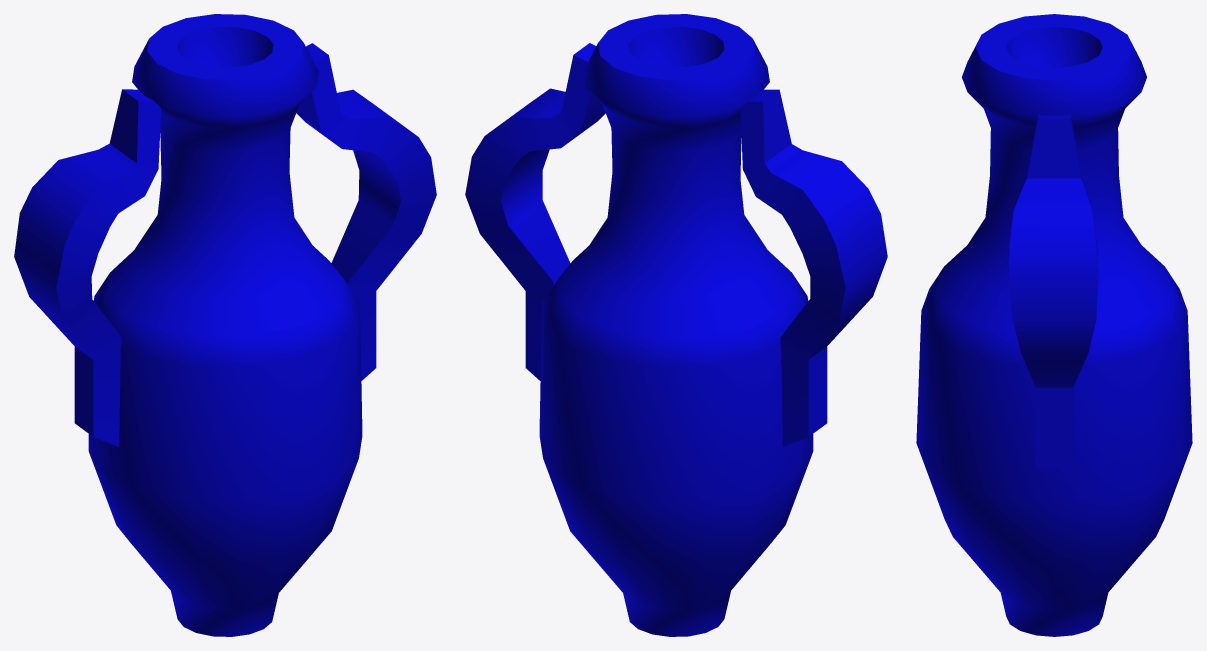
The model's file is SM_Jar_04.fbx.
The picture shows the model from 3 angles, left to right: view 1: azimuth 30°, elevation 25°; view 2: azimuth 150°, elevation 25°; view 3: azimuth 270°, elevation 25°; orthographic projection.
Visible parts, largest first — view 1: Jar_04; view 2: Jar_04; view 3: Jar_04.
Part boxes in pixels (<box>): Jar_04: <box>14,14,436,636</box>; Jar_04: <box>465,14,887,636</box>; Jar_04: <box>916,14,1192,636</box>.
Size of the model in its own units: 69.65 by 99.66 by 43.81.
